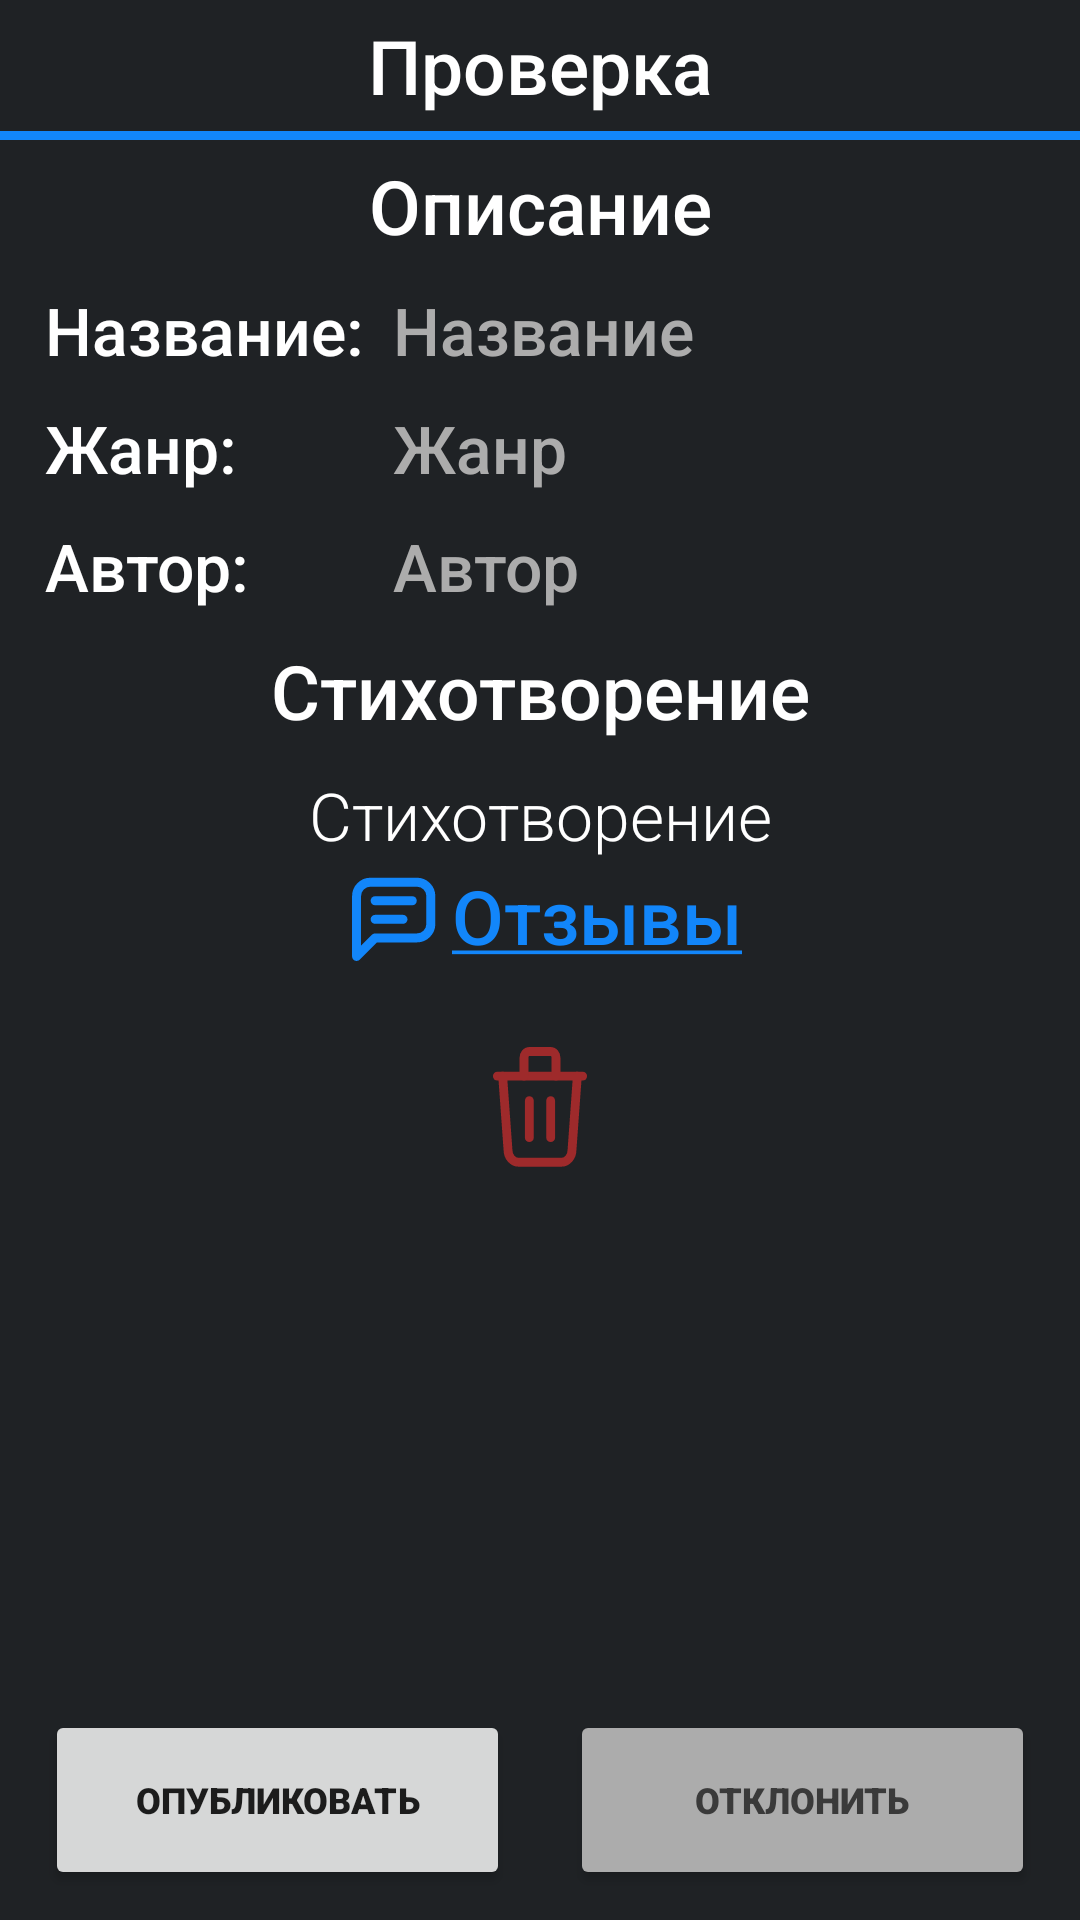

Screen size 1080x1920. Icon name, then its center in pixels as (x,y):
delete: (540,1107)
reviews: (394,919)
